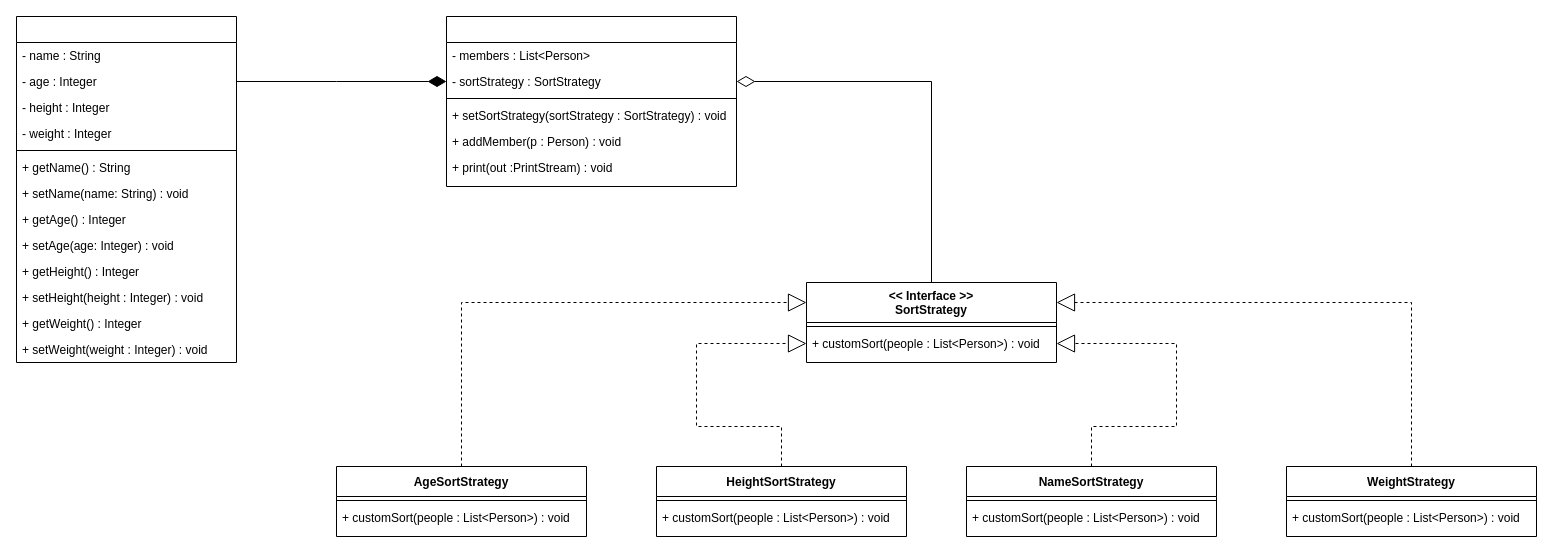
The diagram is 1553 pixels wide and 553 high, and some of its shapes have lost their labels. The box of each missing label's shape, as (x1, y1, x2, y2) in pixels:
People: (446, 16, 736, 186)
Person: (16, 16, 236, 362)
